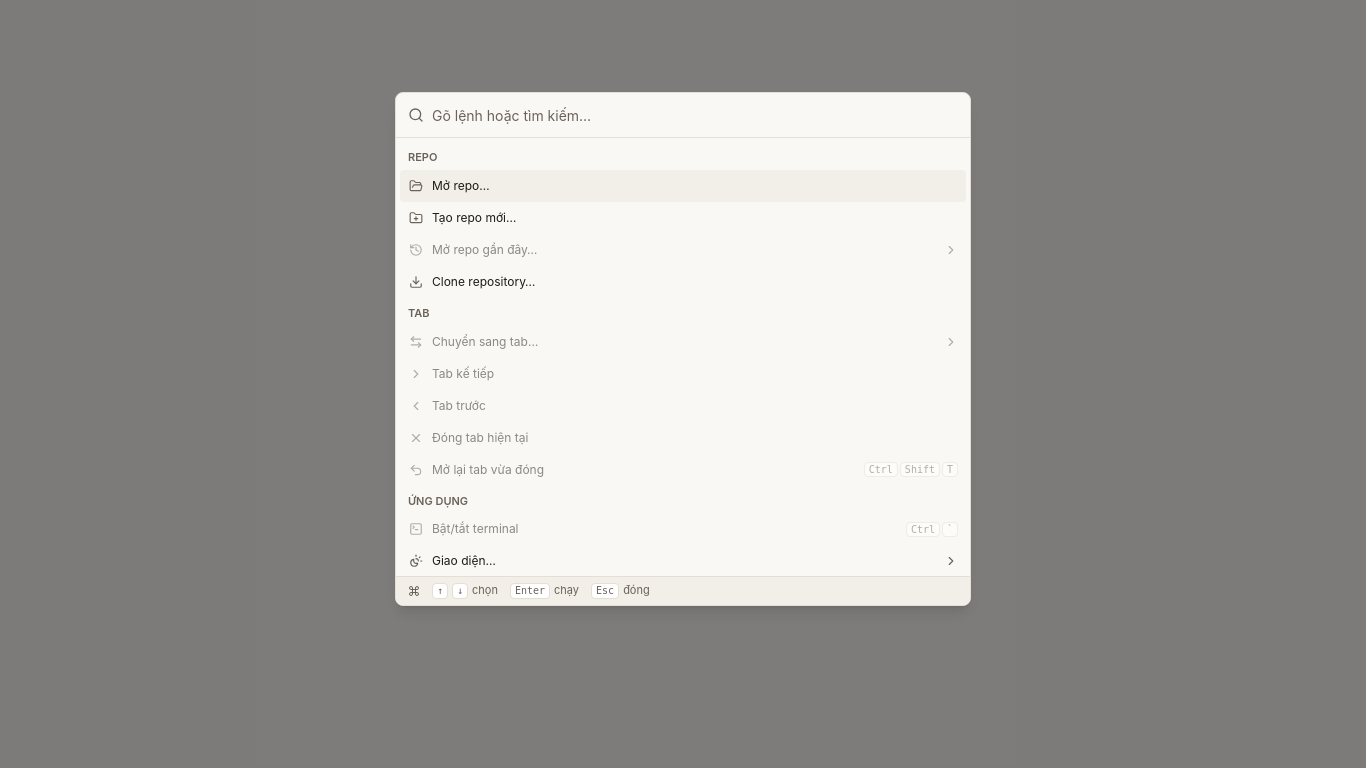
it: CommandPalette › shows an empty state
This screenshot has width=1366, height=768.
Type "qqqqzzzz" into the dropdown at [695, 115], box [432,93,958,137]
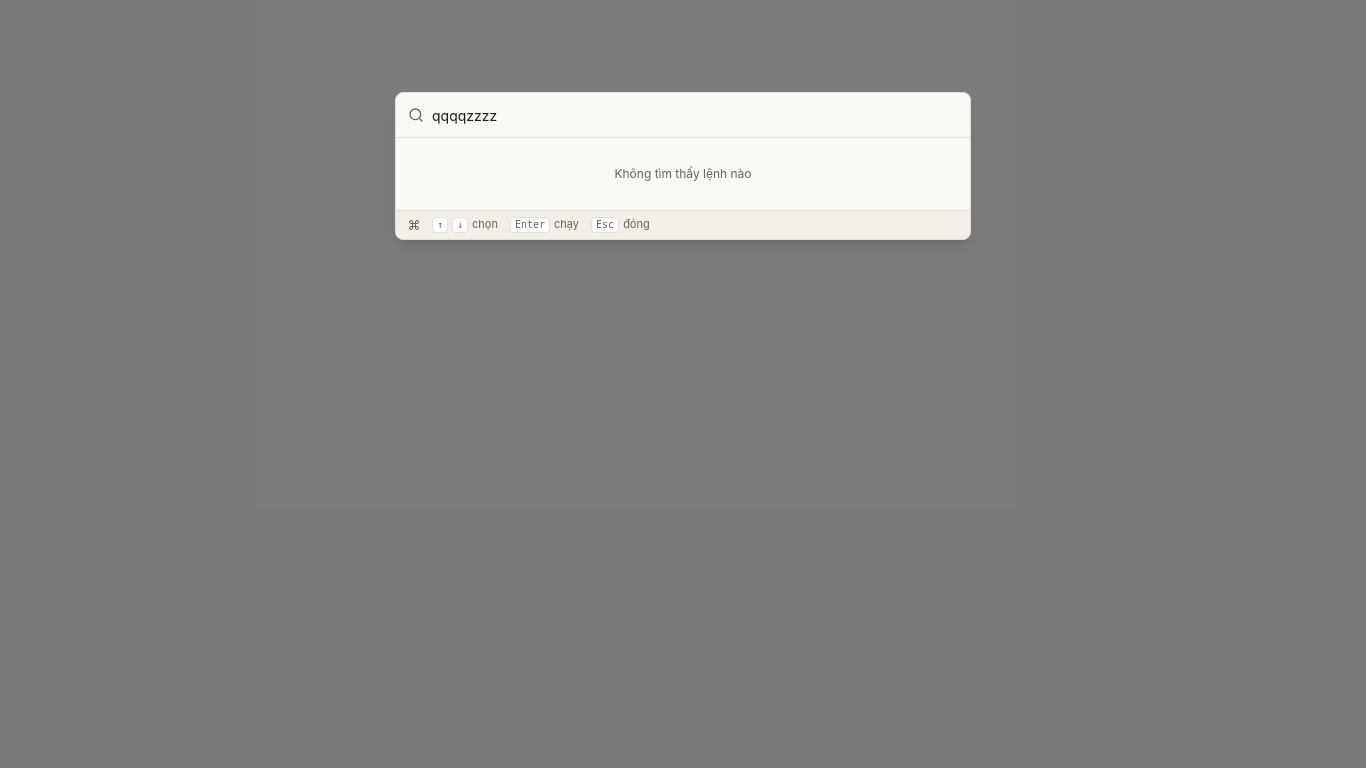
Now no options are shown
Now the text "Không tìm thấy lệnh nào" is shown, box [614,166,752,181]
